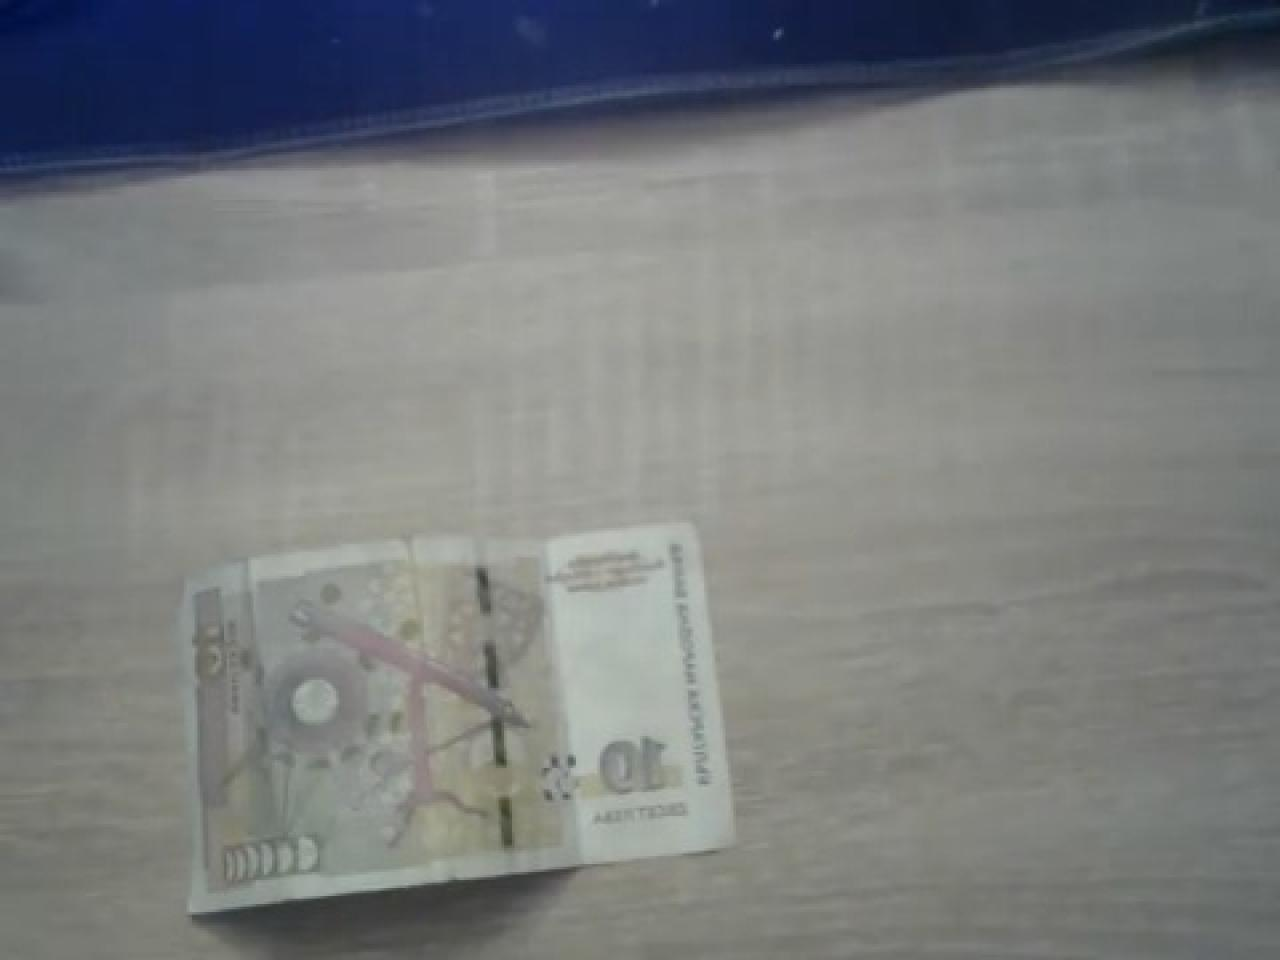10leva: (176, 522, 739, 920)
